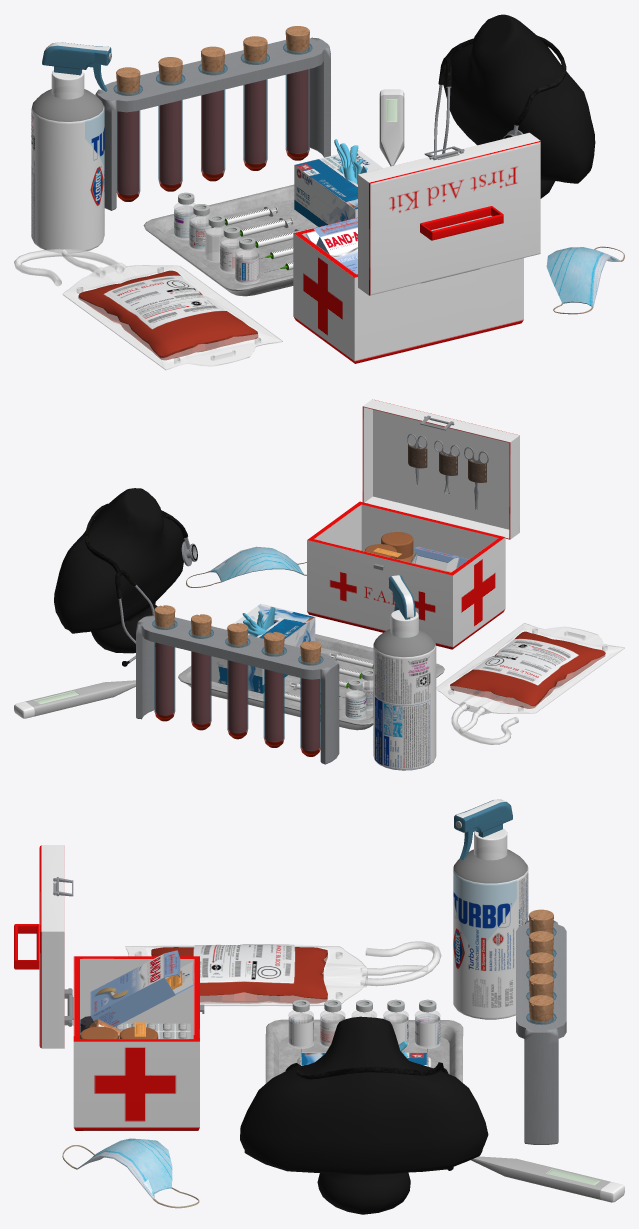
3 views of the same model, one above another, from view 1: azimuth 30°, elevation 25°; view 2: azimuth 150°, elevation 25°; view 3: azimuth 270°, elevation 25° (orthographic). The views are drawn at different scales.
Parts seen in each view (by area): view 1: Top, Base, Bust, Spray, Flask (×5), Blood_Bag, Tubes_Supporter, Tray, Blood, GlovesPack, Cork (×5), Mask (+10 smaller); view 2: Base, Top, Bust, Spray, Flask (×5), Blood_Bag, Tubes_Supporter, Blood, Tray, GlovesPack, Thermometer, Mask (+5 smaller); view 3: Bust, Base, Spray, Blood_Bag, Tubes_Supporter, Top, Patch_Box, Blood, Tray, Mask, Thermometer, Vaccine (+6 smaller).
Boxes of the visible parts, <box> form: Top: <box>358,132,540,295</box>; Base: <box>293,217,523,363</box>; Bust: <box>443,14,595,198</box>; Spray: <box>31,42,111,253</box>; Flask (×5): <box>113,43,312,201</box>; Blood_Bag: <box>14,248,282,370</box>; Tubes_Supporter: <box>95,37,330,210</box>; Tray: <box>143,184,317,296</box>; Blood: <box>78,270,258,360</box>; GlovesPack: <box>294,150,382,226</box>; Cork (×5): <box>116,26,309,95</box>; Mask: <box>546,246,624,314</box>; Base: <box>307,501,505,649</box>; Top: <box>362,399,519,539</box>; Bust: <box>54,488,184,653</box>; Spray: <box>373,575,436,770</box>; Flask (×5): <box>152,620,323,756</box>; Blood_Bag: <box>436,623,624,744</box>; Tubes_Supporter: <box>136,615,339,764</box>; Blood: <box>450,631,605,708</box>; Tray: <box>178,634,444,730</box>; GlovesPack: <box>211,603,315,693</box>; Thermometer: <box>14,680,135,718</box>; Mask: <box>186,546,306,587</box>; Bust: <box>240,1016,488,1214</box>; Base: <box>67,956,204,1130</box>; Spray: <box>453,799,528,1019</box>; Blood_Bag: <box>125,941,441,1005</box>; Tubes_Supporter: <box>516,920,566,1144</box>; Top: <box>14,845,72,1048</box>; Patch_Box: <box>90,950,193,1027</box>; Blood: <box>151,947,327,1003</box>; Tray: <box>265,1019,463,1083</box>; Mask: <box>62,1138,199,1208</box>; Thermometer: <box>471,1156,624,1202</box>; Vaccine: <box>288,999,313,1048</box>.
Bounding box in the file's own units: 0.2469 × 0.0899 × 0.2417.
16 materials, 16 textured.
